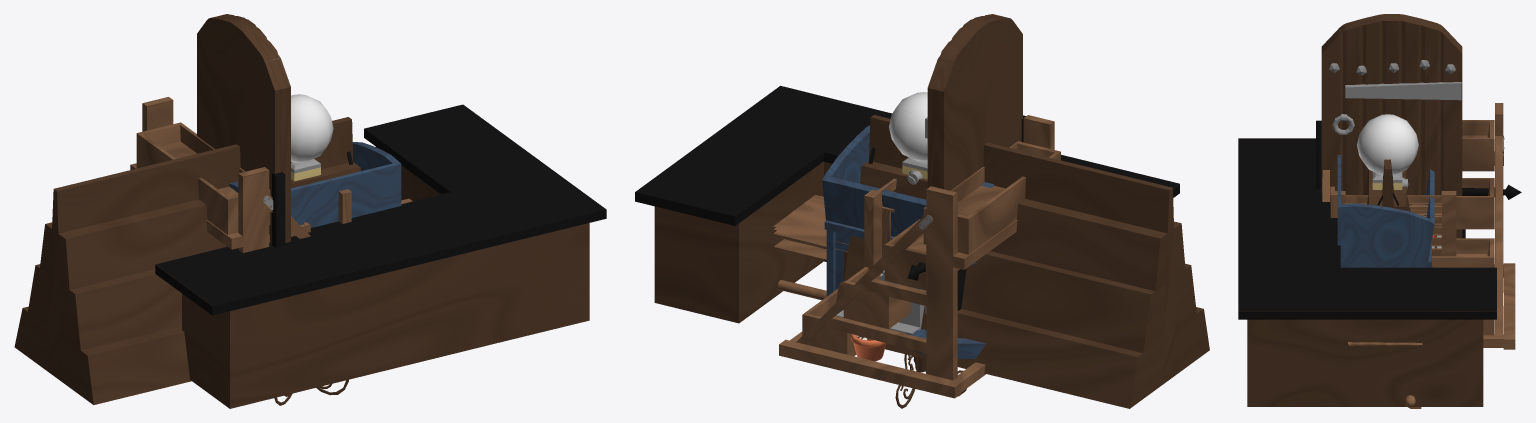
The model's file is Modelos_Hugo.fbx.
The picture shows the model from 3 angles, left to right: view 1: azimuth 30°, elevation 25°; view 2: azimuth 150°, elevation 25°; view 3: azimuth 270°, elevation 25°; orthographic projection. The views are drawn at different scales.
Parts seen in each view (by area): view 1: BancadaMedia, PrateleiraDiscosGrande, PortaVelha, PrateleiraMedia, PrateleiraDiscoAntigo, MaquinaChicleteAntiga, PlacaNova; view 2: PrateleiraDiscosGrande, BancadaMedia, PrateleiraMedia, PortaVelha, PrateleiraDiscoAntigo, PrateleiraParedeMedia, MaquinaChicleteAntiga, PalletDecorativoGrande, CaixaRegistradoraAntigaReferencia, FlorCactoPequena, JanelaGrande, PlacaNova (+1 smaller); view 3: BancadaMedia, PortaVelha, PrateleiraMedia, PrateleiraDiscoAntigo, MaquinaChicleteAntiga, PalletDecorativoGrande, PrateleiraDiscosGrande, PlacaNova, PrateleiraParedeMedia.
Part boxes in pixels (x1=…): BancadaMedia: x1=155, y1=104, x2=606, y2=408; PrateleiraDiscosGrande: x1=14, y1=117, x2=360, y2=404; PortaVelha: x1=197, y1=14, x2=290, y2=242; PrateleiraMedia: x1=130, y1=97, x2=310, y2=252; PrateleiraDiscoAntigo: x1=229, y1=142, x2=401, y2=227; MaquinaChicleteAntiga: x1=291, y1=94, x2=333, y2=181; PlacaNova: x1=272, y1=172, x2=285, y2=248; PrateleiraDiscosGrande: x1=836, y1=115, x2=1209, y2=408; BancadaMedia: x1=635, y1=86, x2=1179, y2=323; PrateleiraMedia: x1=779, y1=115, x2=1060, y2=398; PortaVelha: x1=925, y1=14, x2=1022, y2=313; PrateleiraDiscoAntigo: x1=822, y1=125, x2=994, y2=296; PrateleiraParedeMedia: x1=773, y1=195, x2=848, y2=300; MaquinaChicleteAntiga: x1=889, y1=92, x2=927, y2=184; PalletDecorativoGrande: x1=864, y1=178, x2=896, y2=279; CaixaRegistradoraAntigaReferencia: x1=836, y1=270, x2=925, y2=334; FlorCactoPequena: x1=851, y1=334, x2=886, y2=361; JanelaGrande: x1=906, y1=329, x2=986, y2=358; PlacaNova: x1=907, y1=115, x2=1025, y2=310; BancadaMedia: x1=1238, y1=138, x2=1496, y2=406; PortaVelha: x1=1321, y1=14, x2=1462, y2=238; PrateleiraMedia: x1=1322, y1=103, x2=1515, y2=349; PrateleiraDiscoAntigo: x1=1337, y1=154, x2=1434, y2=267; MaquinaChicleteAntiga: x1=1357, y1=114, x2=1418, y2=189; PalletDecorativoGrande: x1=1330, y1=191, x2=1456, y2=256; PrateleiraDiscosGrande: x1=1364, y1=159, x2=1432, y2=267; PlacaNova: x1=1316, y1=120, x2=1521, y2=238; PrateleiraParedeMedia: x1=1348, y1=342, x2=1422, y2=408.
Size of the model in its own units: 396 by 308 by 230.
